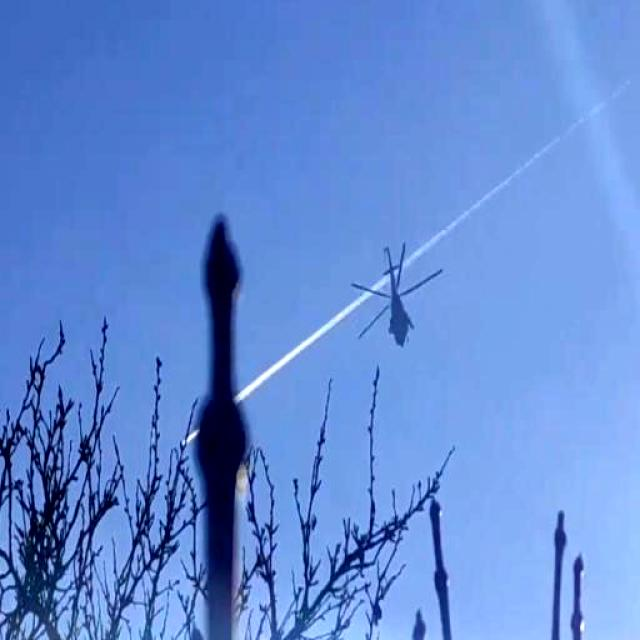drone: (352, 235, 441, 358)
